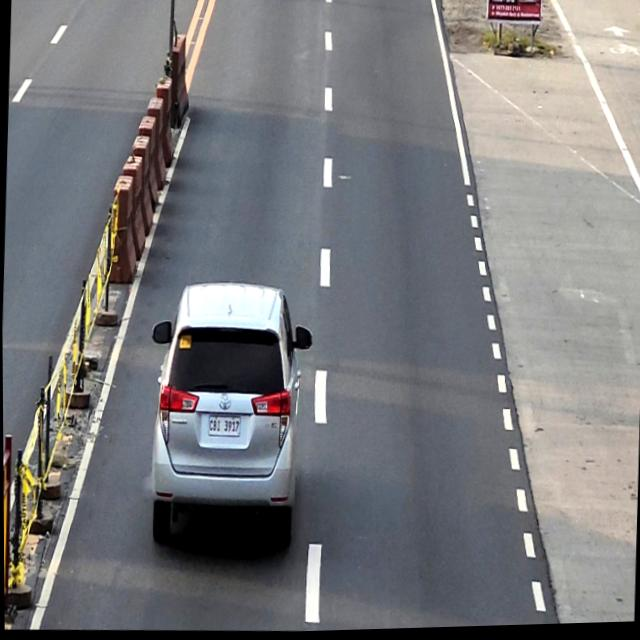Car: (142, 279, 316, 567)
License-Plate: (207, 415, 240, 439)
